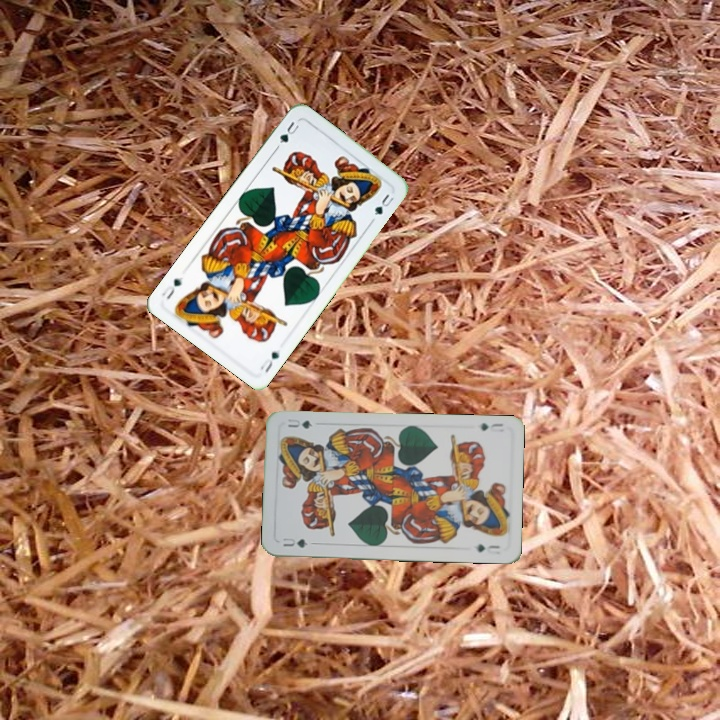GU: (272, 117, 303, 151), (256, 347, 282, 376), (279, 534, 311, 550), (477, 419, 505, 434)
